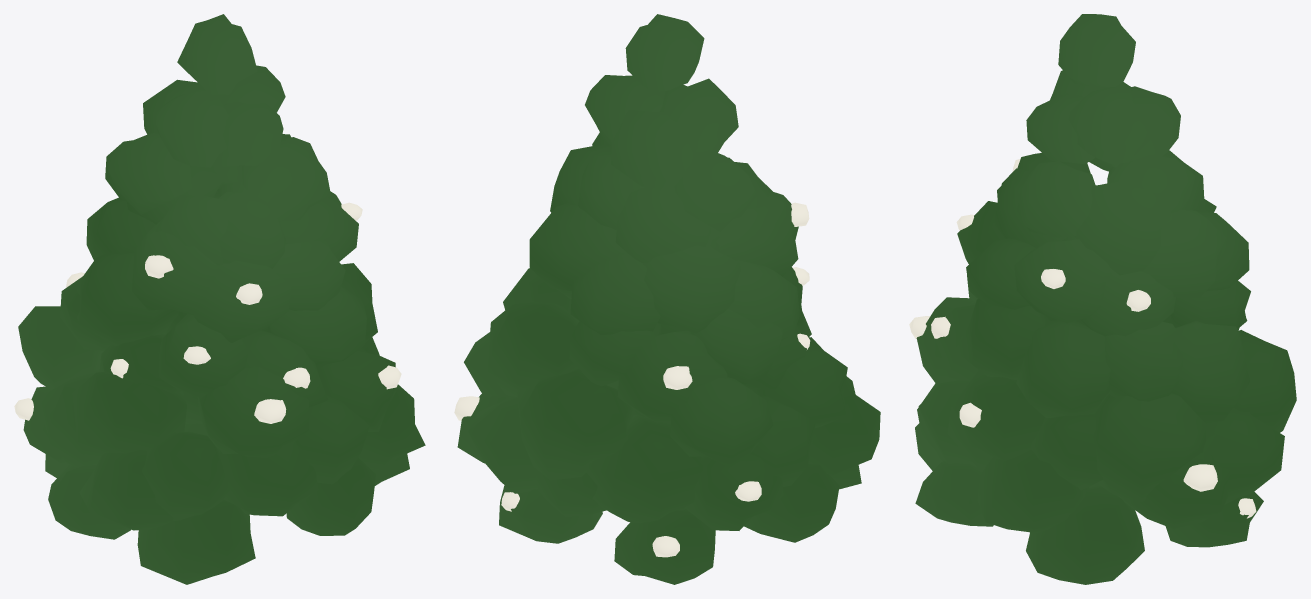
The model's file is Blender_Magnolia_1.glb.
3 views of the same model, side by side, from view 1: azimuth 30°, elevation 25°; view 2: azimuth 150°, elevation 25°; view 3: azimuth 270°, elevation 25° (orthographic).
Visible parts, largest first — view 1: Blender_Magnolia_1; view 2: Blender_Magnolia_1; view 3: Blender_Magnolia_1.
Part boxes in pixels (<box>): Blender_Magnolia_1: <box>14,14,425,584</box>; Blender_Magnolia_1: <box>454,14,880,584</box>; Blender_Magnolia_1: <box>909,14,1296,584</box>.
Size of the model in its own units: 13.93 by 18.67 by 13.14.
